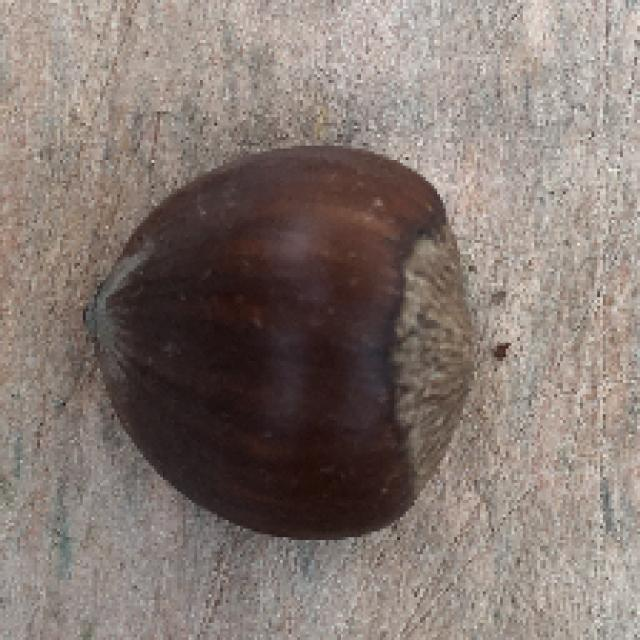damagedHazelnut: (84, 143, 491, 545)
